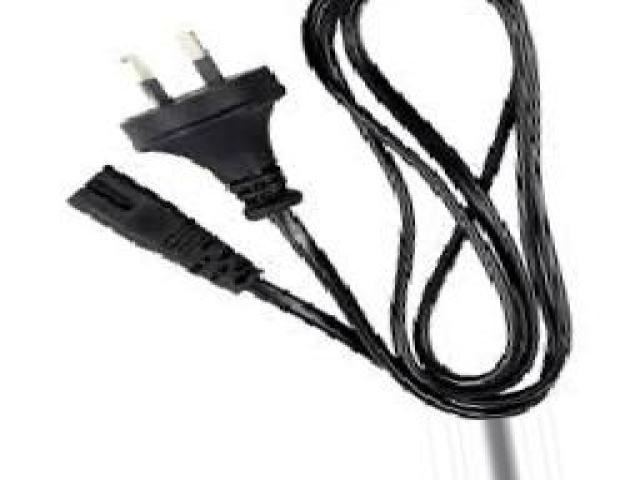wire: (65, 0, 575, 422)
